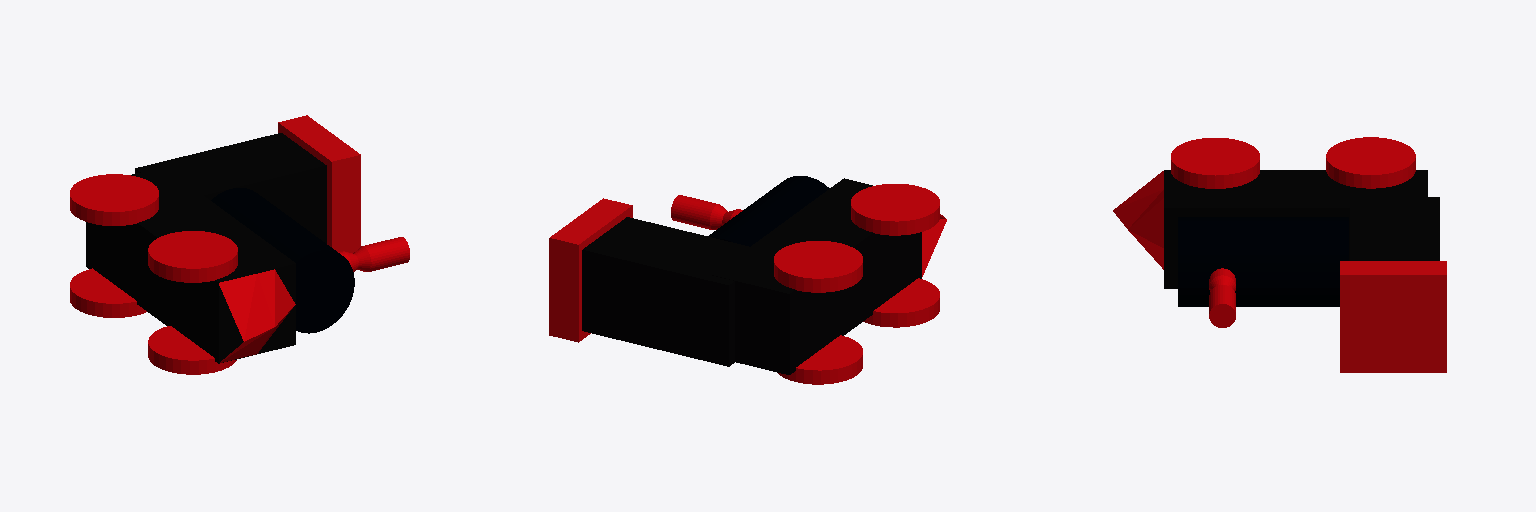
Rendered from mozdony.obj.
The picture shows the model from 3 angles: view 1: azimuth 30°, elevation 25°; view 2: azimuth 150°, elevation 25°; view 3: azimuth 270°, elevation 25°; orthographic projection.
Parts seen in each view (by area): view 1: Cube_Cube.001, Cube.001_Cube.002, Cylinder, Cube.002_Cube.003, Plane, Cylinder.001, Cylinder.002, Cylinder.003, Cylinder.004, Cylinder.005; view 2: Cube_Cube.001, Cube.001_Cube.002, Cube.002_Cube.003, Cylinder.002, Cylinder.001, Cylinder, Cylinder.004, Cylinder.003, Cylinder.005, Plane; view 3: Cylinder, Cube.002_Cube.003, Cube_Cube.001, Cube.001_Cube.002, Cylinder.002, Cylinder.001, Plane, Cylinder.005.
Boxes of the visible parts, x1,y1,x2,y2 form: Cube_Cube.001: [86, 167, 295, 363]; Cube.001_Cube.002: [135, 133, 326, 243]; Cylinder: [211, 188, 354, 333]; Cube.002_Cube.003: [278, 115, 360, 252]; Plane: [219, 269, 295, 362]; Cylinder.001: [148, 231, 237, 282]; Cylinder.002: [70, 174, 158, 225]; Cylinder.003: [148, 326, 236, 374]; Cylinder.004: [70, 268, 146, 317]; Cylinder.005: [338, 237, 409, 271]; Cube_Cube.001: [712, 178, 921, 374]; Cube.001_Cube.002: [582, 217, 748, 366]; Cube.002_Cube.003: [549, 198, 632, 342]; Cylinder.002: [774, 241, 862, 292]; Cylinder.001: [851, 184, 939, 235]; Cylinder: [708, 176, 829, 246]; Cylinder.004: [778, 335, 862, 384]; Cylinder.003: [863, 278, 939, 327]; Cylinder.005: [671, 195, 742, 229]; Plane: [922, 214, 946, 276]; Cylinder: [1178, 217, 1348, 306]; Cube.002_Cube.003: [1340, 261, 1446, 372]; Cube_Cube.001: [1164, 170, 1427, 288]; Cube.001_Cube.002: [1350, 197, 1439, 260]; Cylinder.002: [1326, 137, 1415, 188]; Cylinder.001: [1171, 138, 1259, 188]; Plane: [1113, 171, 1163, 269]; Cylinder.005: [1209, 268, 1235, 327].
Size of the model in its own units: 6.93 by 2.6 by 7.45.